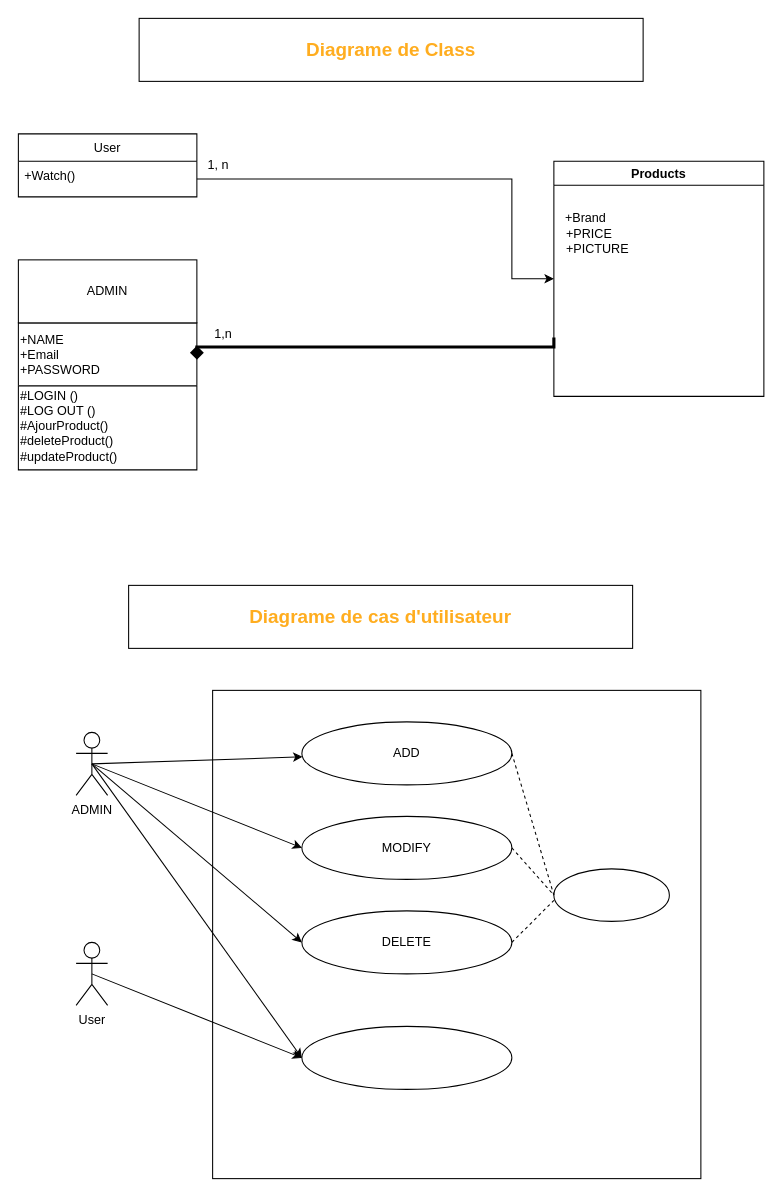
Some shapes in this 782 by 1197 pixel diagram are drawn without their labels. The centre of each missing label's shape, as x and y in pixels:
"DISPLAY" belongs at point (406, 1057).
"S'indentifier" belongs at point (611, 894).
